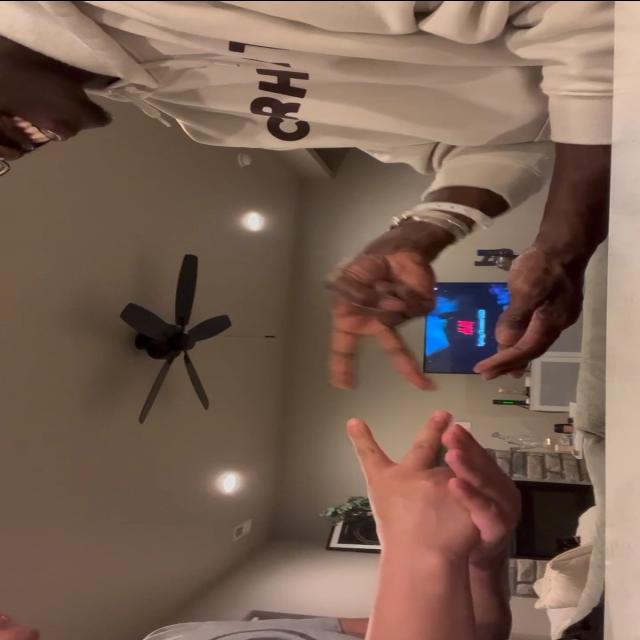Scissors: (345, 411, 487, 554), (323, 252, 459, 388)
